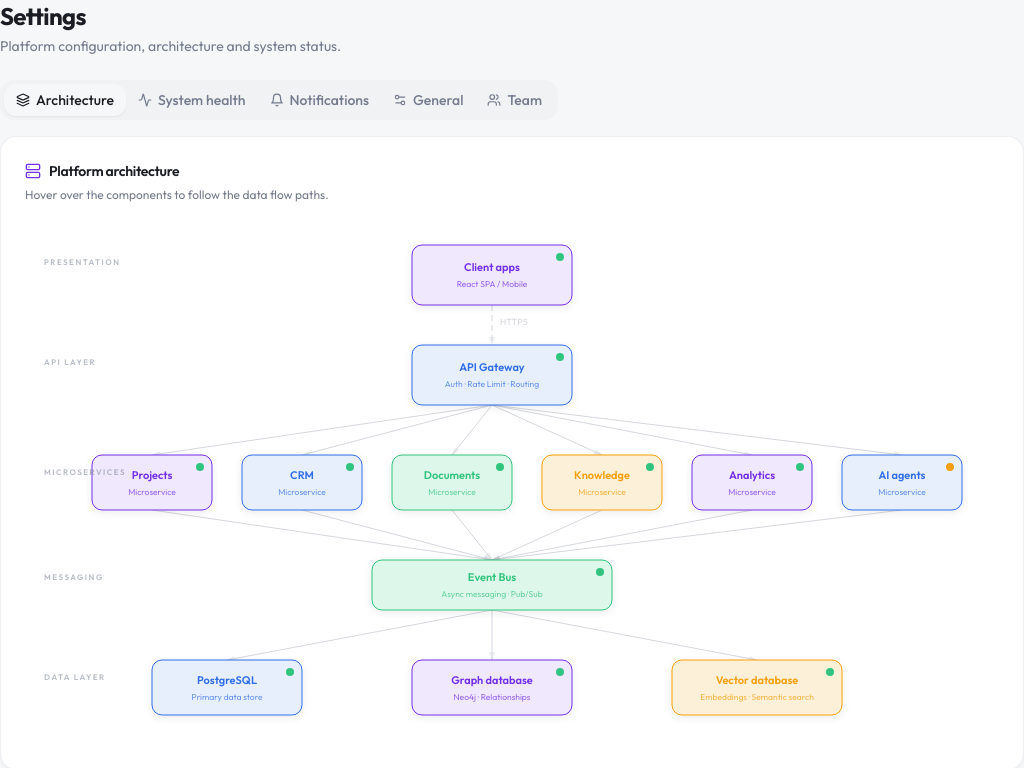
Scenario: Settings in English › system health › shows each service with an English status and the latency
Press the mouse on the tab "System health": (192, 100) [126,84,258,116]
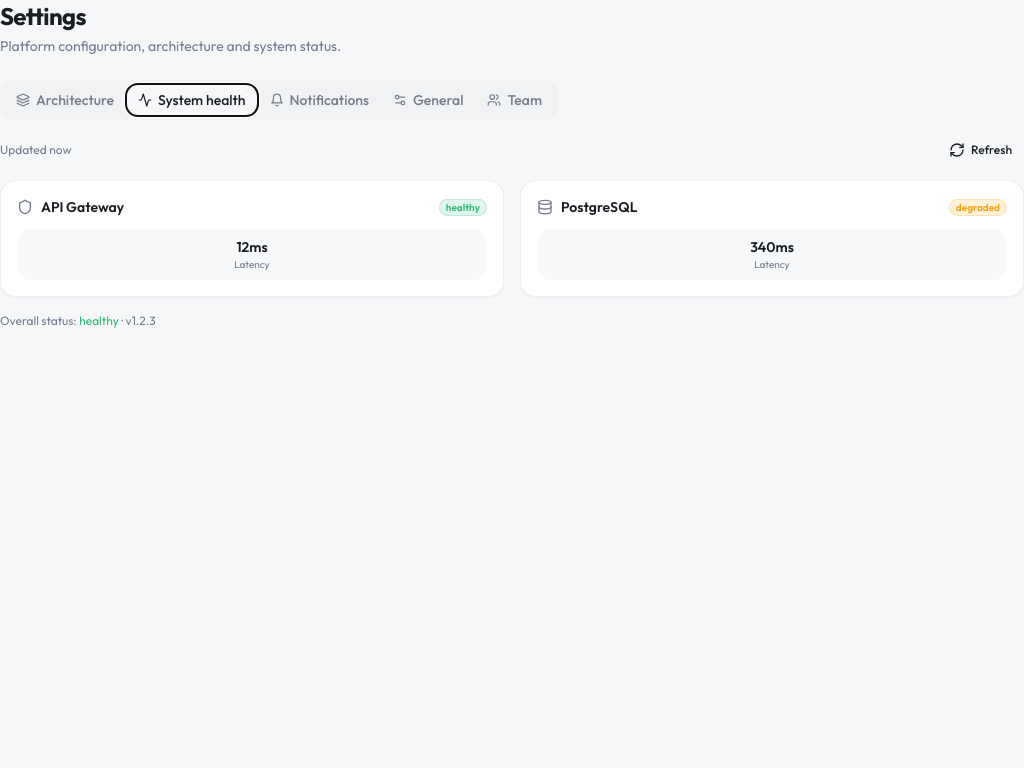
Expected: the text "healthy" in the row of "API Gateway" is shown, [446,200,480,214]
Expected: the text "degraded" is shown, [949,198,1007,216]
Expected: the text "12ms" is shown, [236,238,268,256]
